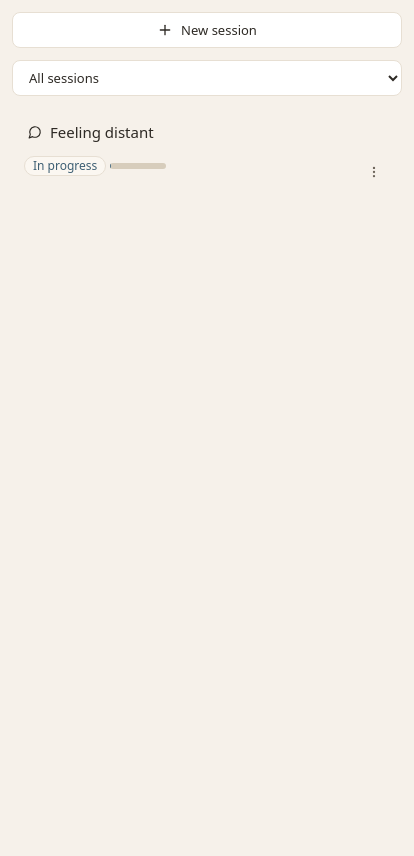
it: Sessions › hides "Wrap up & reflect" when session memory is off
Click the button "Feeling distant".
click(102, 132)  # box x1=16 y1=112 x2=398 y2=152
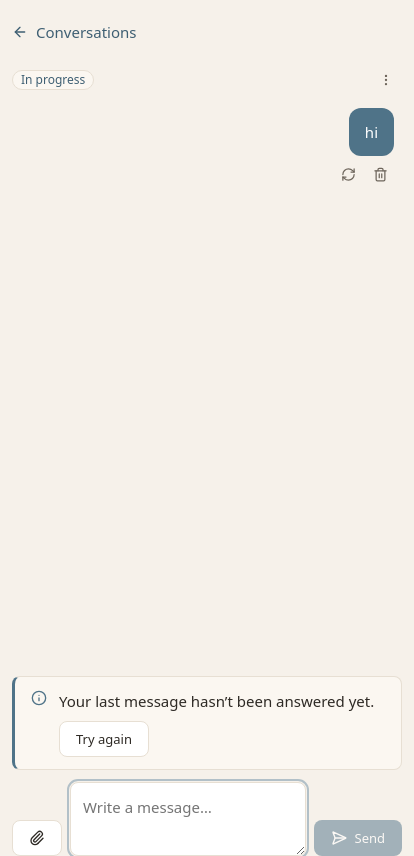
Expected: the text box labelled "message" is shown, x1=70 y1=782 x2=306 y2=855
